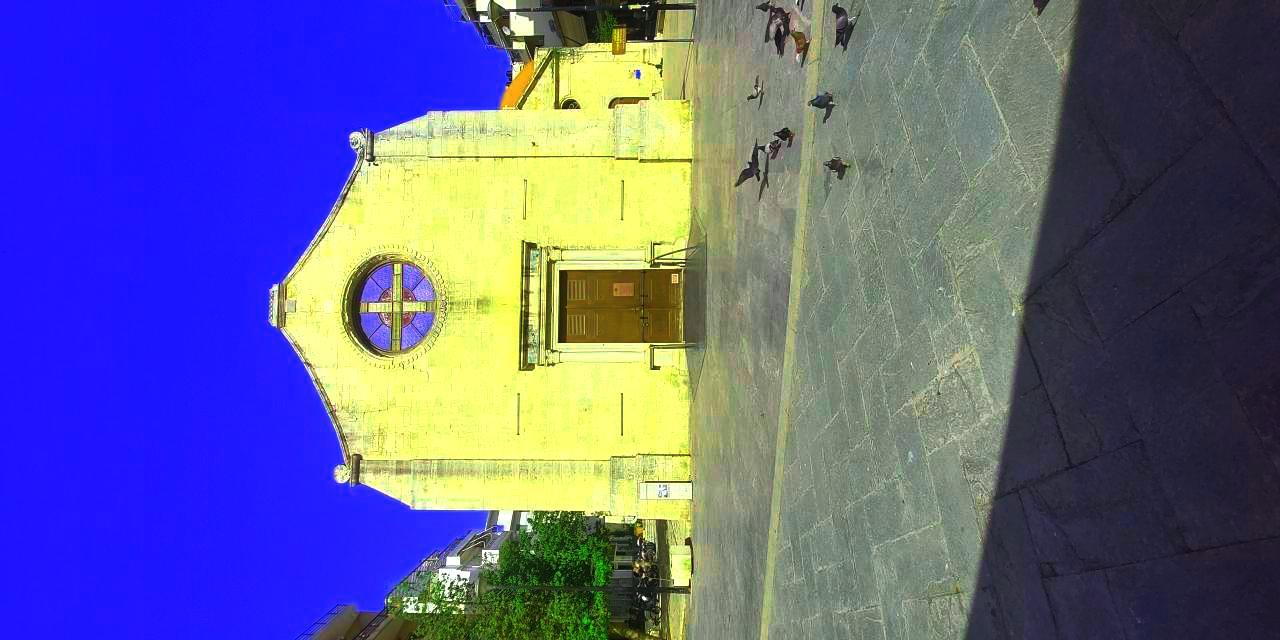Agia Aikaterini: (262, 95, 715, 555)
